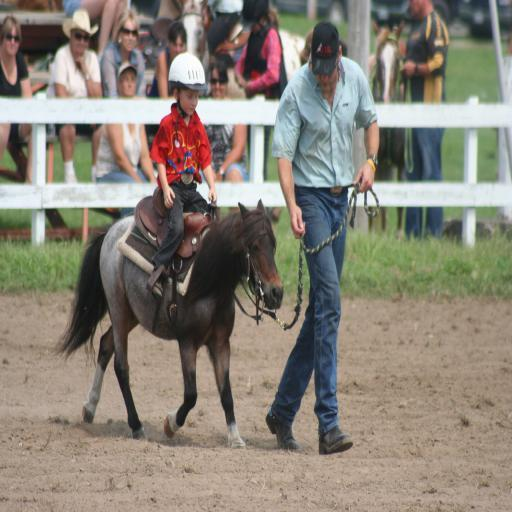horse: (52, 199, 284, 448)
